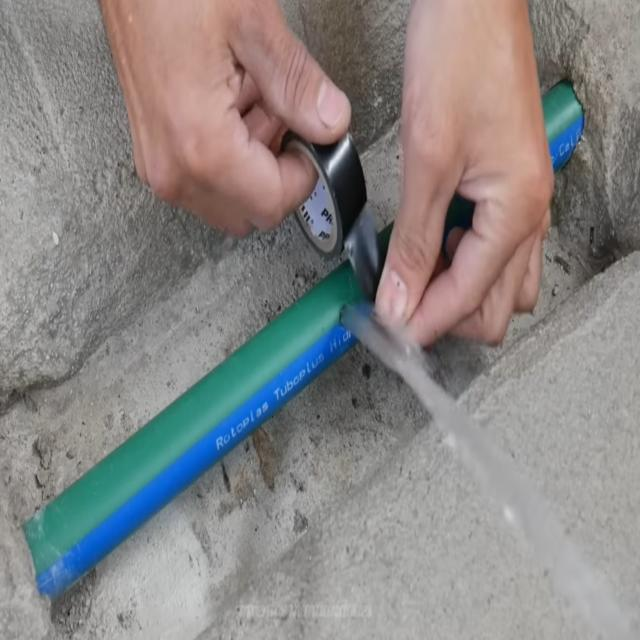leak: (341, 307, 629, 638)
